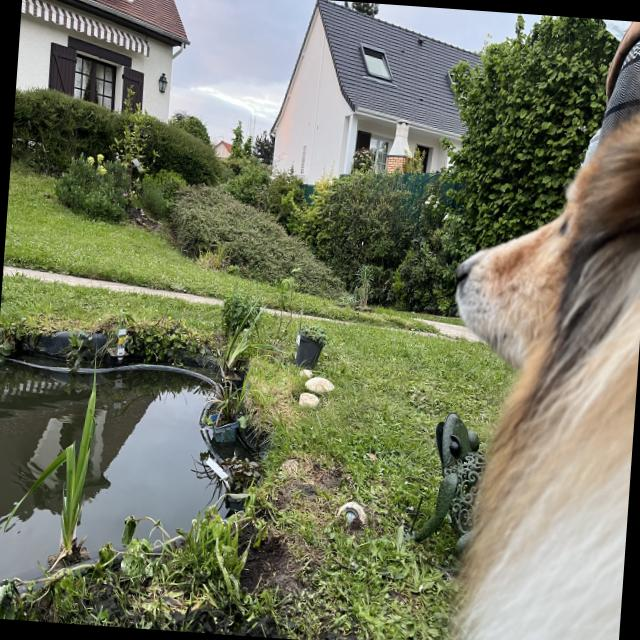Dog: (415, 62, 640, 640)
